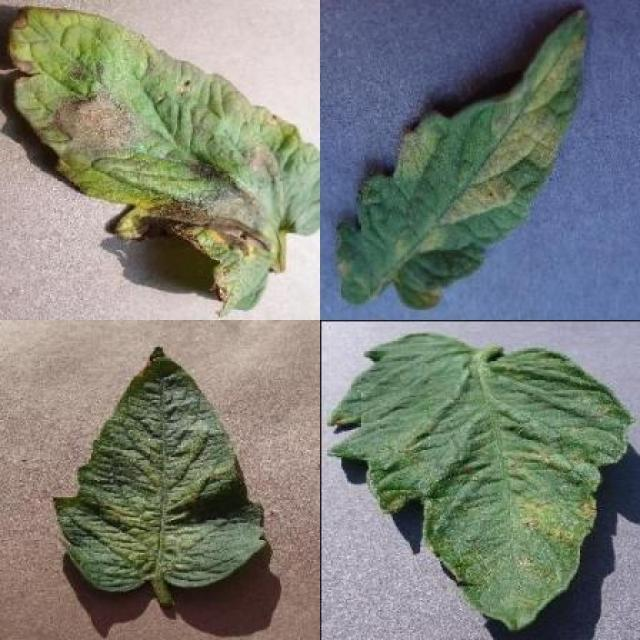Late Blight: (7, 6, 319, 320)
Leaf Mold: (337, 7, 589, 306)
Septoria: (327, 333, 630, 630)
Spider Mites: (53, 345, 268, 592)
